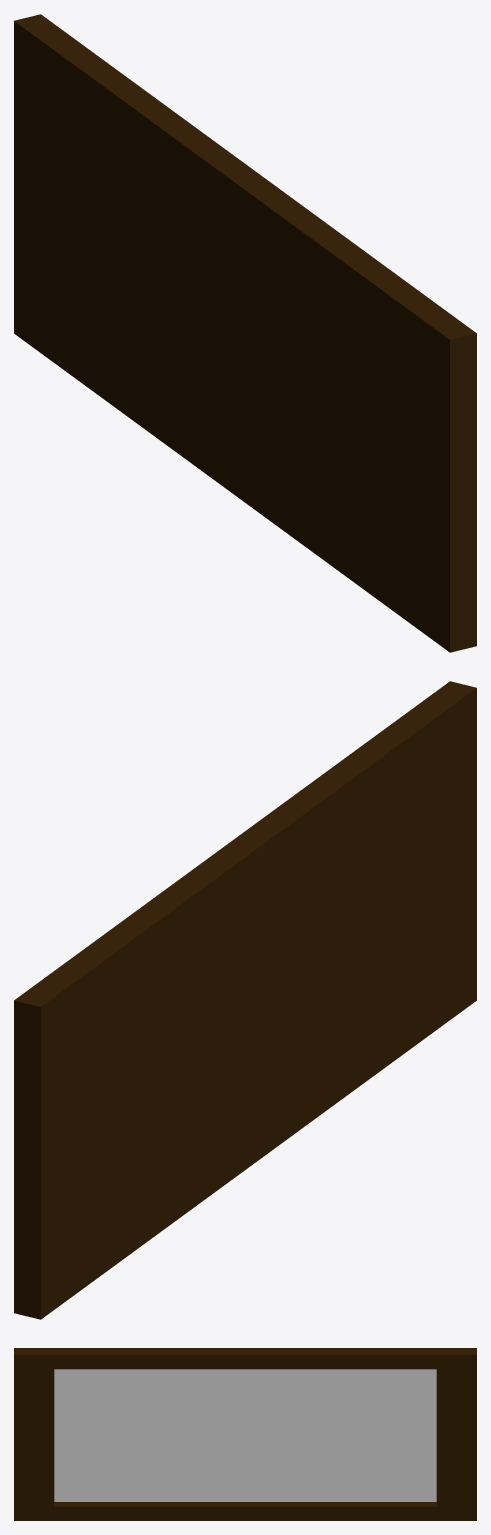
File: mirror.glb
The picture shows the model from 3 angles, top to bottom: view 1: azimuth 30°, elevation 25°; view 2: azimuth 150°, elevation 25°; view 3: azimuth 270°, elevation 25°; orthographic projection. The views are drawn at different scales.
Parts seen in each view (by area): view 1: Plane_0; view 2: Plane_0; view 3: Plane_0.
Part boxes in pixels (x1,y1,x2,y2): Plane_0: (14, 14, 476, 652); Plane_0: (14, 681, 476, 1319); Plane_0: (14, 1348, 476, 1520).
Size of the model in its own units: 0.18 by 2 by 5.06.
